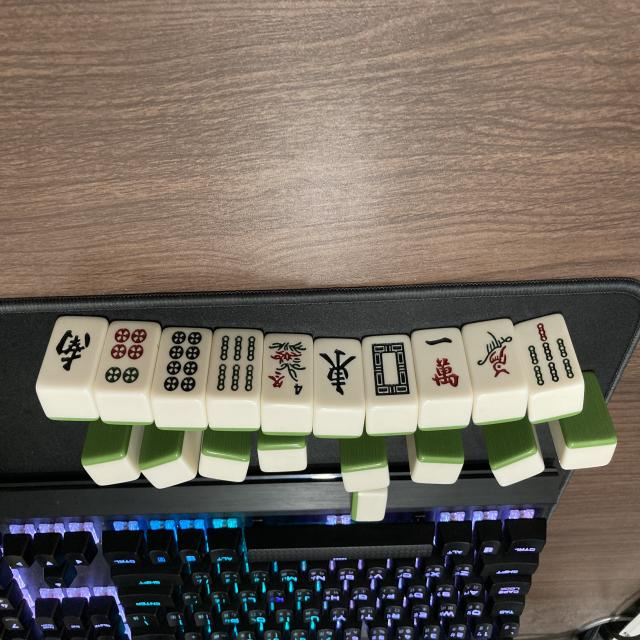1B: (466, 322, 524, 394)
1C: (416, 330, 473, 400)
4S: (261, 337, 313, 406)
6B: (210, 330, 264, 400)
6D: (94, 324, 160, 394)
7B: (518, 317, 580, 392)
8D: (151, 327, 211, 398)
EW: (313, 339, 364, 408)
SW: (38, 317, 106, 389)
WD: (364, 336, 417, 404)
